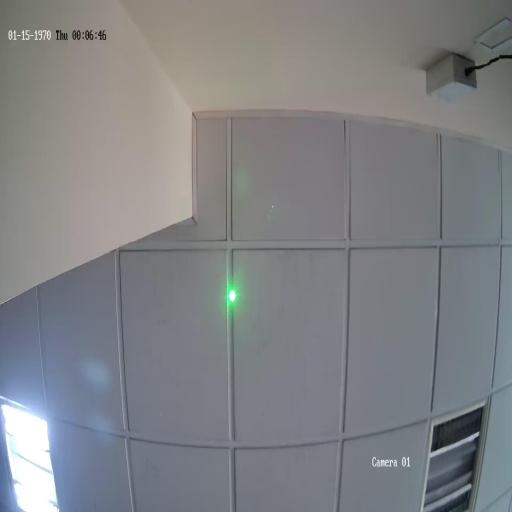laser: (227, 286, 238, 306)
